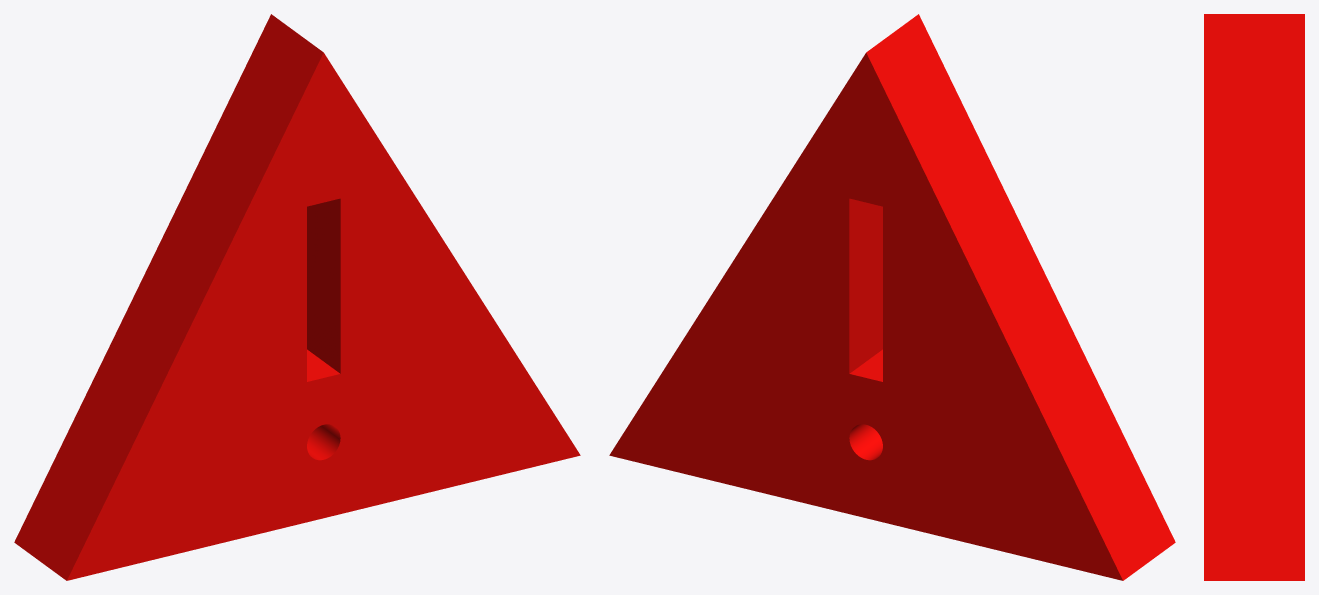
File: alert.fbx
3 renders of one model, left to right at view 1: azimuth 30°, elevation 25°; view 2: azimuth 150°, elevation 25°; view 3: azimuth 270°, elevation 25°, orthographic. The views are drawn at different scales.
Visible parts, largest first — view 1: Curve; view 2: Curve; view 3: Curve.
Boxes of the visible parts, bbox=[...] form: Curve: bbox=[14, 14, 580, 580]; Curve: bbox=[609, 14, 1175, 580]; Curve: bbox=[1204, 14, 1304, 580].
Size of the model in its own units: 220 by 191 by 39.02.
